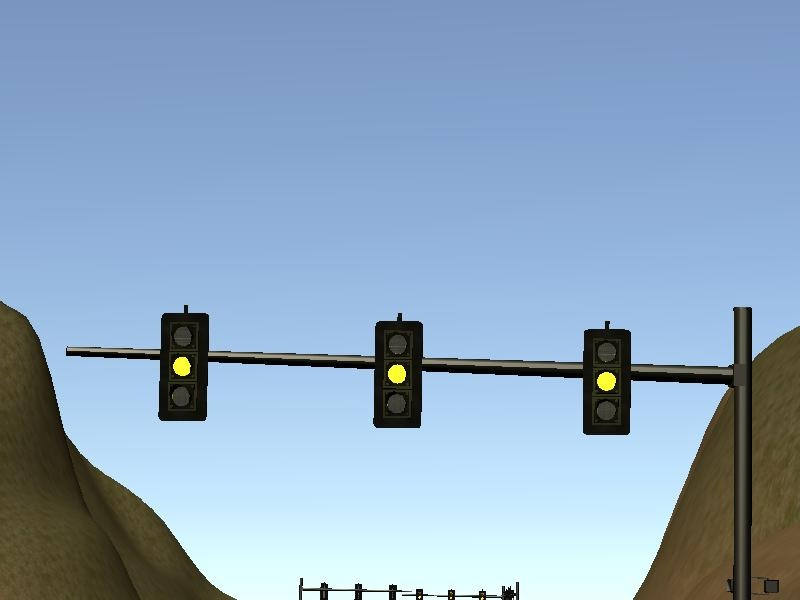YELLOW: (578, 318, 632, 439), (156, 305, 209, 426), (369, 313, 422, 434)
